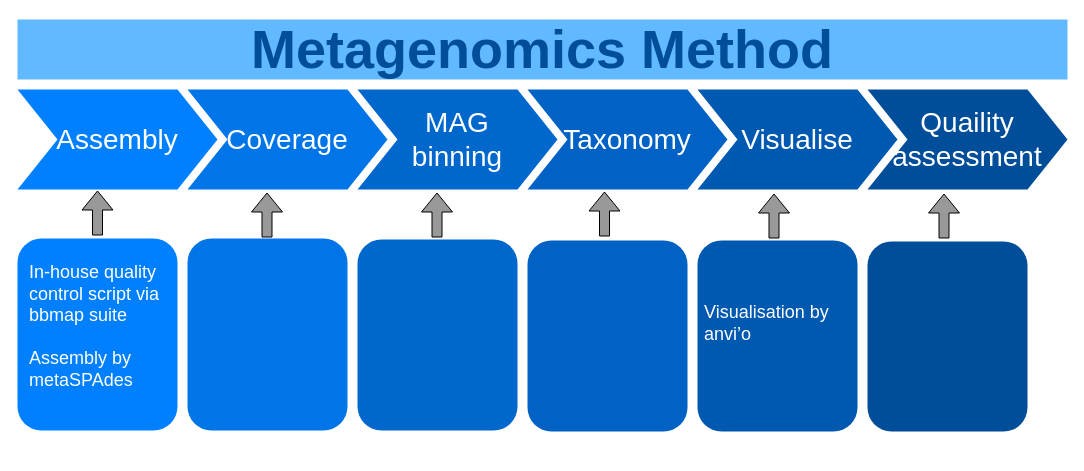
Image size: 1084x471. Some labels were removed from this diagram. Here are the shapes that lost their labels. From the top down, the centre of each, then its label:
At (x=267, y=334): "Performed via Bowtie2 Filtering mappings via BamM at 95% identity".
At (x=437, y=334): "MAG binning via metaBAT2, BinSanity, MaxBin".
At (x=607, y=335): "Gene taxonomy by Kaiju".
At (x=947, y=336): "Quality assessment of MAGs via CheckM".
